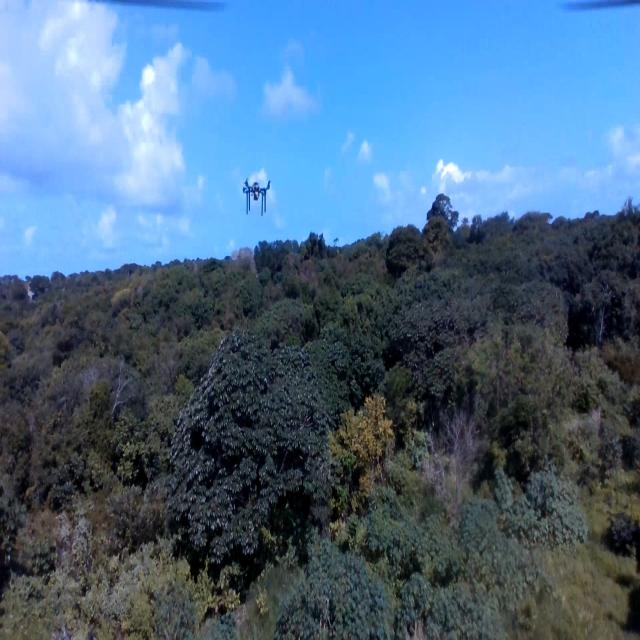-uav-: (235, 164, 278, 221)
